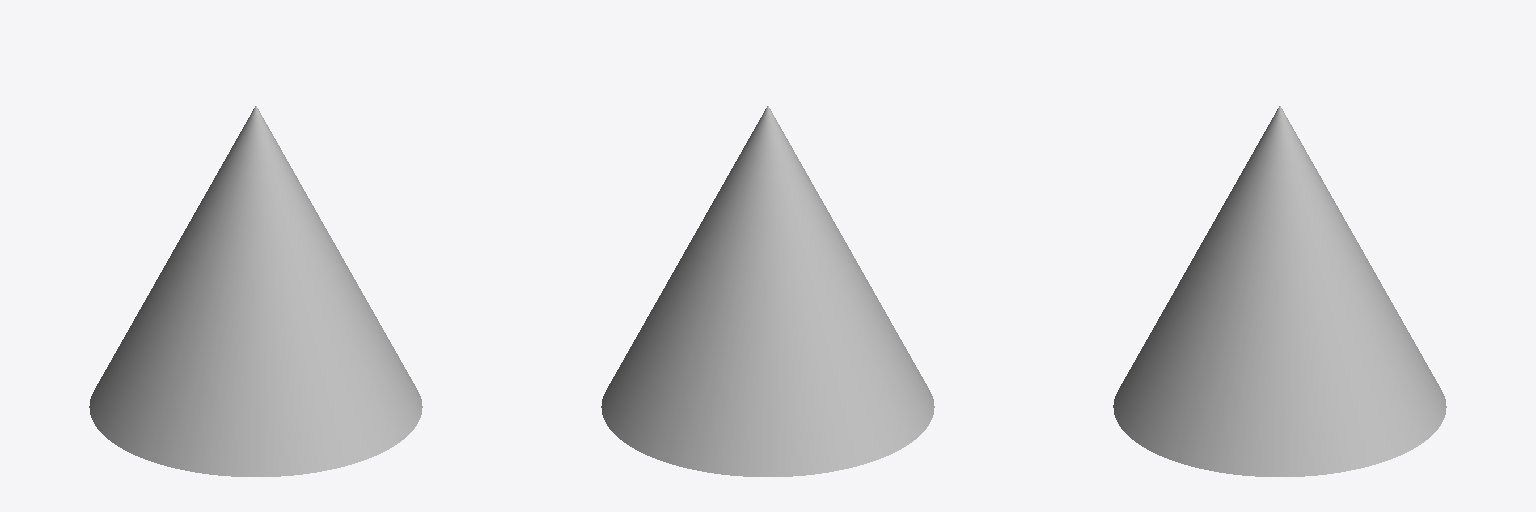
The model's file is small_cone.obj.
3 views of the same model, side by side, from view 1: azimuth 30°, elevation 25°; view 2: azimuth 150°, elevation 25°; view 3: azimuth 270°, elevation 25° (orthographic).
Parts seen in each view (by area): view 1: small_cone_Cone.005; view 2: small_cone_Cone.005; view 3: small_cone_Cone.005.
Part boxes in pixels (left/top/right/bottom): small_cone_Cone.005: left=89, top=106, right=422, bottom=476; small_cone_Cone.005: left=601, top=106, right=934, bottom=476; small_cone_Cone.005: left=1113, top=106, right=1446, bottom=476.
Size of the model in its own units: 2 by 2 by 2.